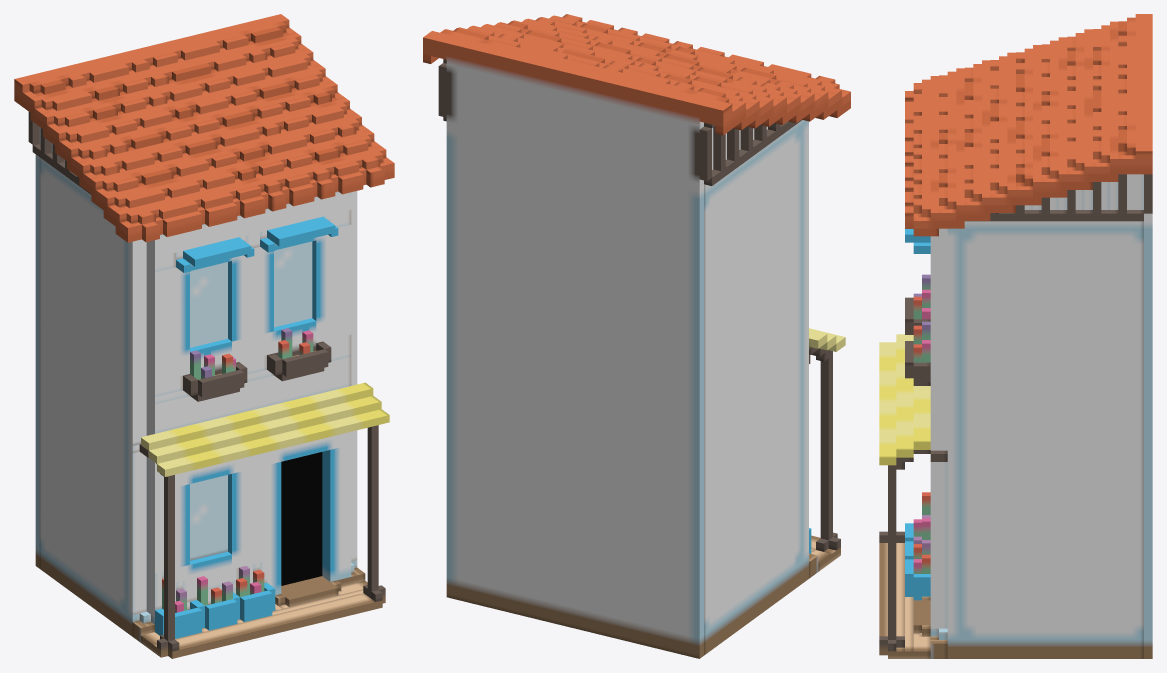
The model's file is PotionShop1Exterior.obj.
3 views of the same model, side by side, from view 1: azimuth 30°, elevation 25°; view 2: azimuth 150°, elevation 25°; view 3: azimuth 270°, elevation 25° (orthographic). The views are drawn at different scales.
Visible parts, largest first — view 1: Model; view 2: Model; view 3: Model.
Boxes of the visible parts, box(x1,y1,x2,y2) form: Model: box(14, 14, 394, 658); Model: box(423, 14, 850, 658); Model: box(879, 14, 1152, 658).
Bounding box in the file's own units: 17.37 × 30.63 × 14.63.
1 material, 1 textured.
